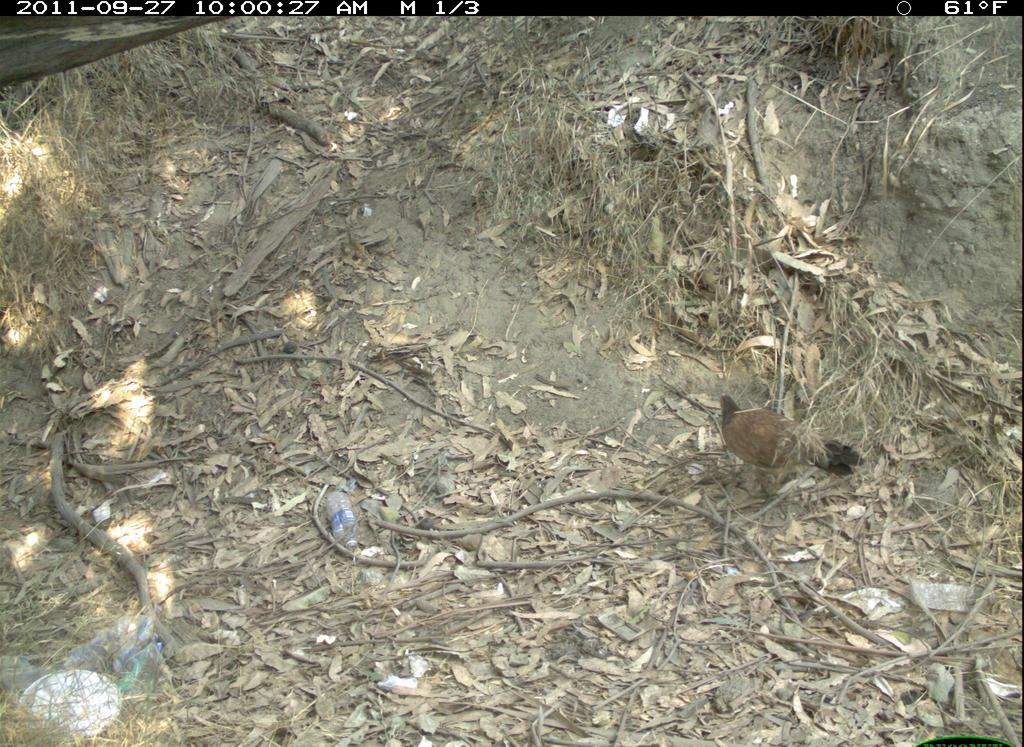bird: (709, 387, 867, 488)
